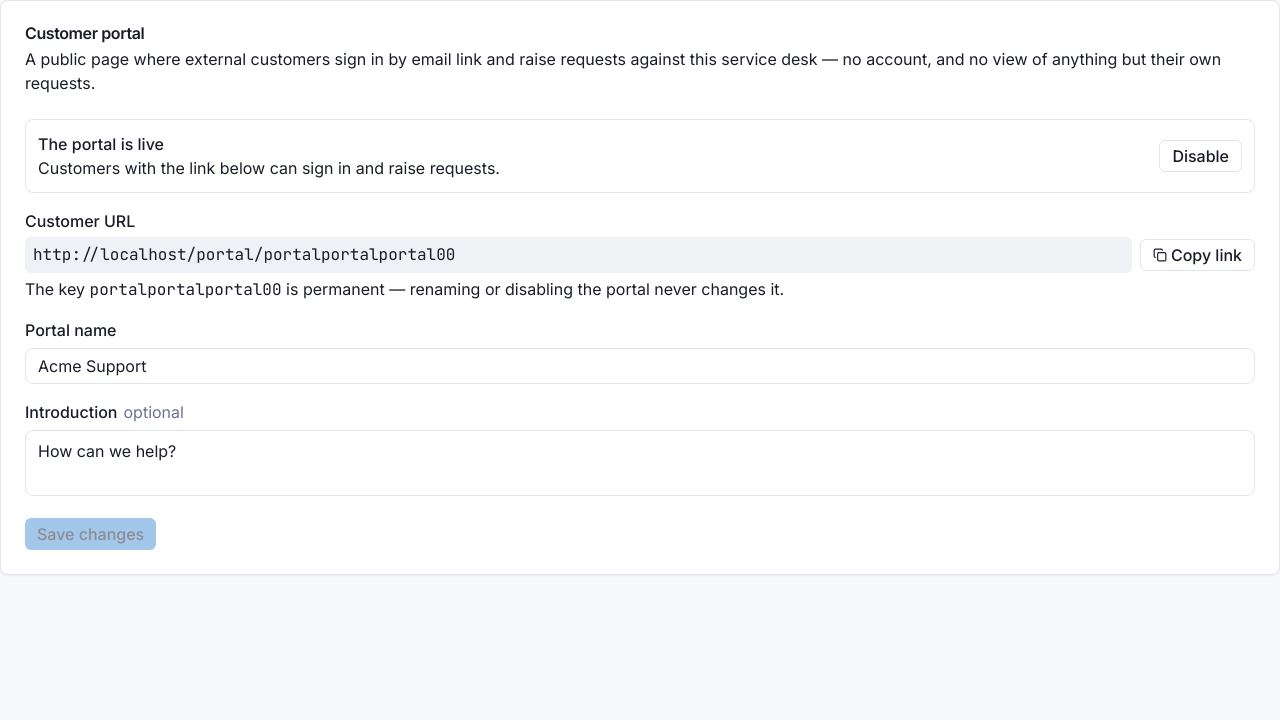
PortalSection copy control › never says Copied when the clipboard API is unavailable
The width and height of the screenshot is (1280, 720).
Step 1. Click the button with test id "portal-config-copy" → [1197, 255], box [1140, 239, 1255, 271]
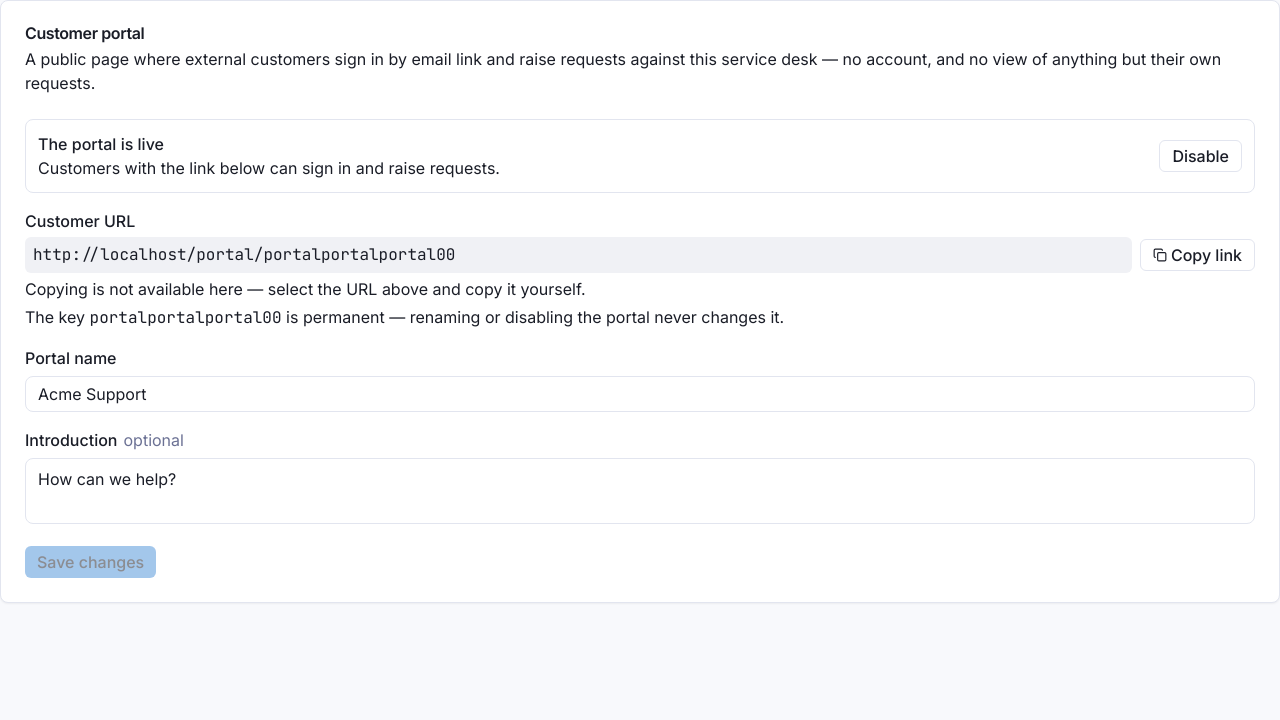
expect the text with test id "portal-copy-failed" shows "select the URL above": met, box [25, 279, 586, 299]
